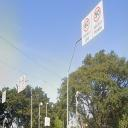speed_limit_50: (94, 7, 100, 22)
speed_limit_60: (83, 18, 90, 31), (21, 77, 24, 85)
speed_limit_70: (18, 79, 21, 87)
